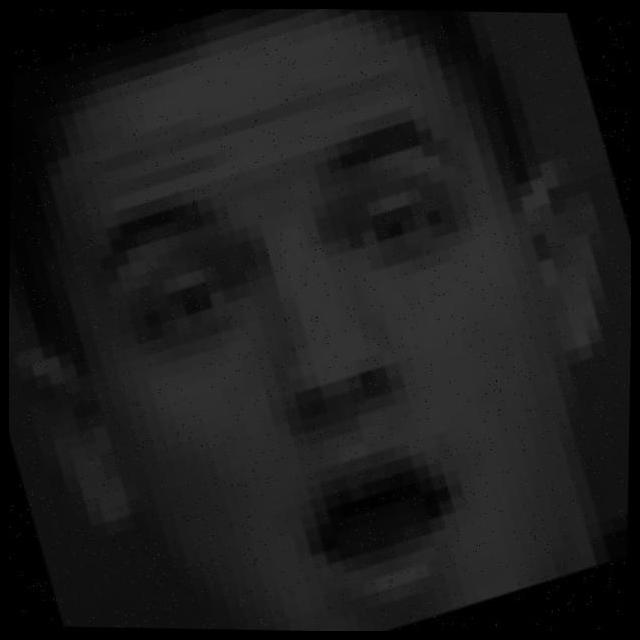Surprised: (56, 91, 581, 609)
